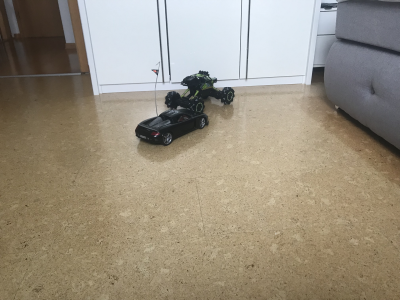remote control car: (163, 68, 235, 113)
